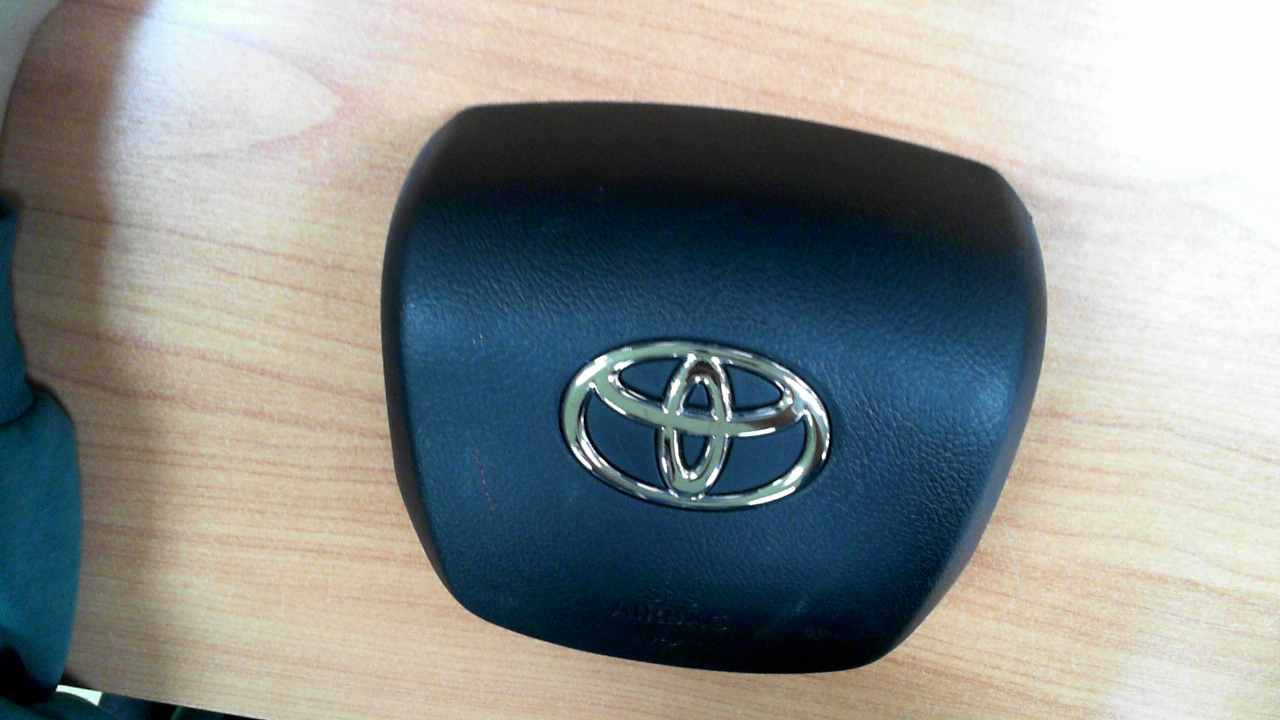Airbag: (378, 101, 1049, 678)
Toyota: (557, 340, 831, 510)
